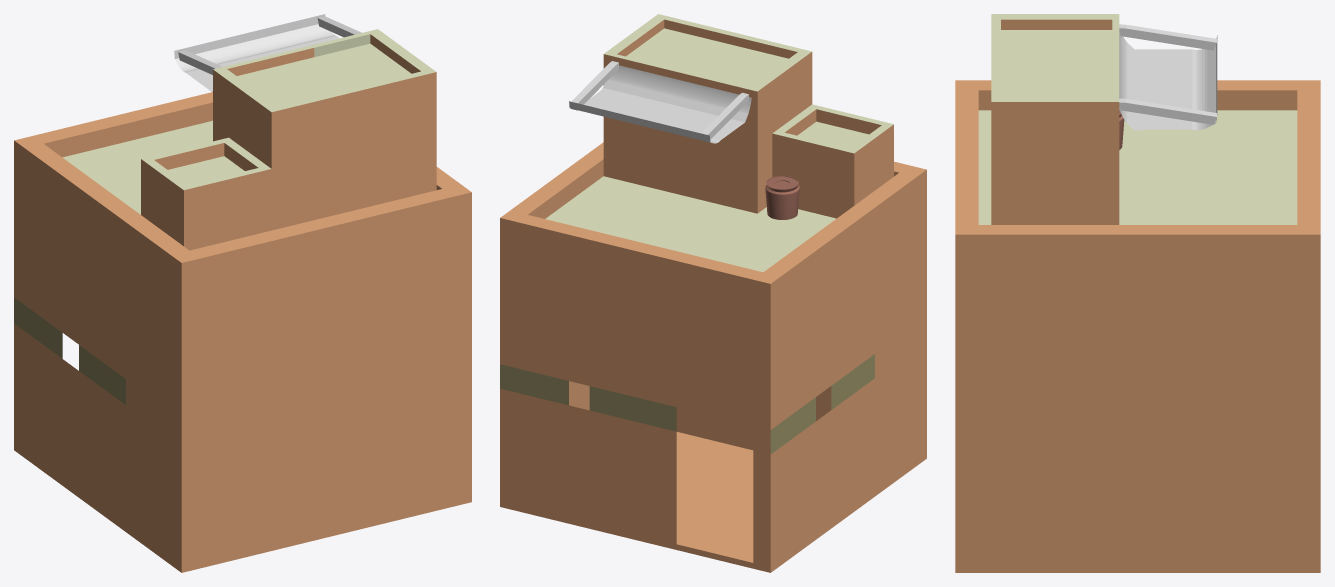
Rendered from Apotecary1_Colored.fbx.
3 views of the same model, side by side, from view 1: azimuth 30°, elevation 25°; view 2: azimuth 150°, elevation 25°; view 3: azimuth 270°, elevation 25° (orthographic). The views are drawn at different scales.
Parts seen in each view (by area): view 1: Cube, Plane; view 2: Cube, Plane, Cylinder, Cube.001, Cube.002; view 3: Cube, Plane, Cube.002, Cube.001.
Part boxes in pixels (x1,y1,x2,y2): Cube: [14, 29, 471, 572]; Plane: [174, 14, 339, 91]; Cube: [500, 14, 926, 572]; Plane: [569, 65, 751, 143]; Cylinder: [765, 176, 799, 219]; Cube.001: [701, 92, 748, 142]; Cube.002: [571, 61, 618, 110]; Cube: [955, 14, 1320, 572]; Plane: [1119, 32, 1217, 130]; Cube.002: [1119, 98, 1216, 124]; Cube.001: [1119, 24, 1216, 50].
Size of the model in its own units: 300 by 417 by 300.
